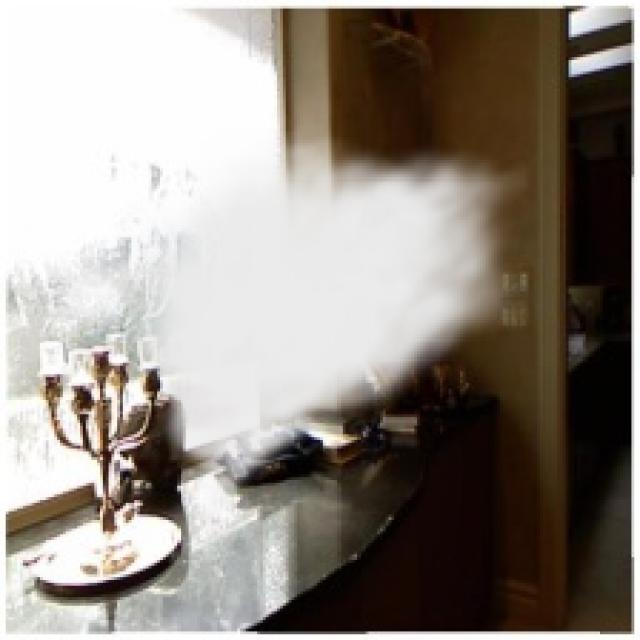smoke: (111, 128, 532, 546)
